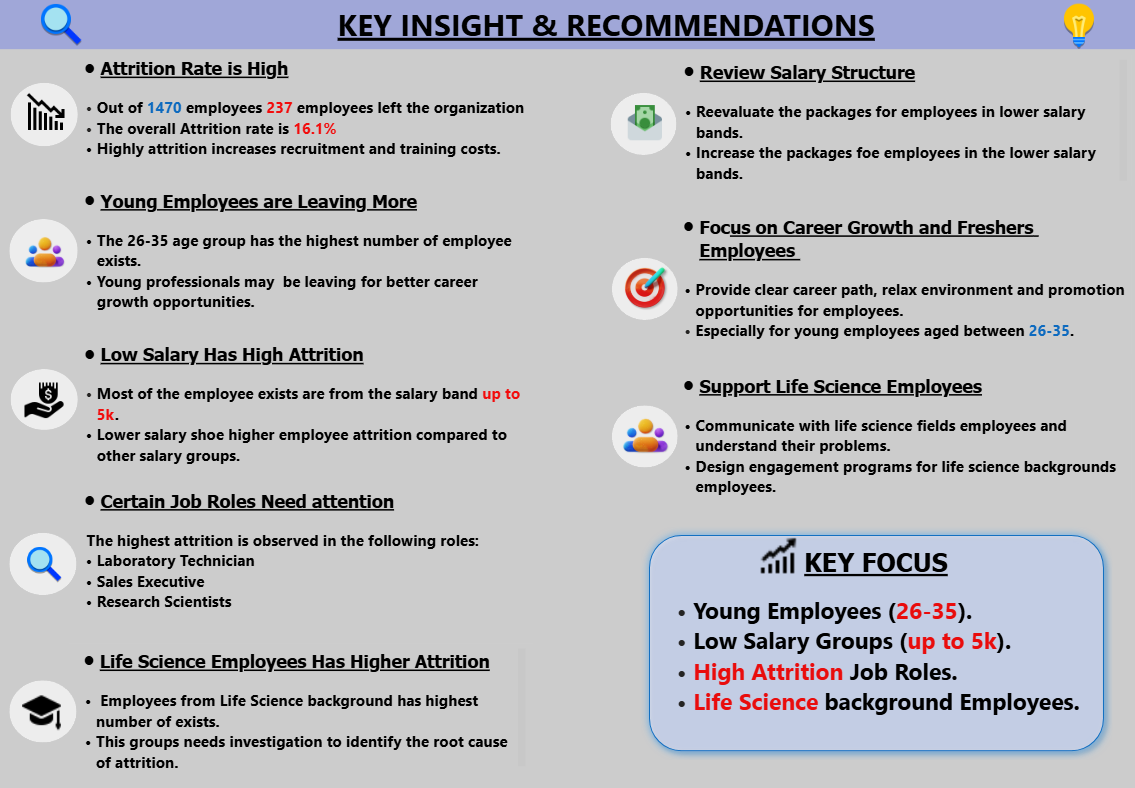

This screenshot's page, from the dashboard's own definition file:
{"tool":"powerbi","page":{"name":"Insight & Recom Page ","canvas":[1200,835],"ordinal":1},"visuals":[{"type":"textbox","box":[0,0,1280.4,52.7],"z":0},{"type":"textbox","box":[75,194.7,488.2,140.8],"z":1000},{"type":"textbox","box":[74.8,55.1,488.3,126],"z":2000},{"type":"textbox","box":[74.8,357,488.3,140.5],"z":3000},{"type":"shape","box":[13.1,87.9,70.9,66.9],"z":4000},{"type":"shape","box":[11.8,231,72.2,66.9],"z":5000},{"type":"shape","box":[13.1,389.8,70.9,64.3],"z":6000},{"type":"textbox","box":[74.8,510.6,488.3,168],"z":7000},{"type":"textbox","box":[73.5,678.6,487,136.5],"z":8000},{"type":"shape","box":[11.8,561.8,70.9,65.6],"z":9000},{"type":"shape","box":[11.8,716.7,70.9,65.6],"z":10000},{"type":"image","box":[19.7,728.5,52.5,40.7],"z":11000},{"type":"image","box":[22.3,572.3,51.2,43.3],"z":12000},{"type":"image","box":[23.6,400.3,49.9,44.6],"z":13000},{"type":"image","box":[23.6,241.5,51.2,48.6],"z":14000},{"type":"image","box":[27.6,98.4,44.6,39.4],"z":15000},{"type":"textbox","box":[704.9,59.1,488.3,137.8],"z":16000},{"type":"shape","box":[644.5,98.4,69.6,65.6],"z":17000},{"type":"textbox","box":[704.9,221.8,488.3,151],"z":18000},{"type":"shape","box":[645.8,271.7,69.6,65.6],"z":19000},{"type":"textbox","box":[704.9,389.8,488.3,140.5],"z":20000},{"type":"shape","box":[645.8,427.9,69.6,65.6],"z":21000},{"type":"shape","box":[676.7,555.3,496.8,245.6],"z":22000},{"type":"textbox","box":[691,572.5,466.8,228.4],"z":23000},{"type":"image","box":[641.9,107.6,77.4,45.9],"z":24000},{"type":"image","box":[1102.7,1.6,70.2,52.7],"z":25000},{"type":"image","box":[36.7,0,57.4,51.1],"z":26000},{"type":"image","box":[652.4,279.6,57.8,51.2],"z":27000},{"type":"image","box":[653.7,422.7,55.1,74.8],"z":28000},{"type":"image","box":[797.9,556.9,46.3,60.6],"z":29000}]}

Visuals, with their boxes in screenshot pixels (x1, y1, x2, y2), scaled from the page's 1200x835 canvas onto the 1135x788 screenshot:
textbox: [x1=0, y1=0, x2=1134, y2=50]
textbox: [x1=71, y1=184, x2=533, y2=317]
textbox: [x1=71, y1=52, x2=533, y2=171]
textbox: [x1=71, y1=337, x2=533, y2=469]
shape: [x1=12, y1=83, x2=79, y2=146]
shape: [x1=11, y1=218, x2=79, y2=281]
shape: [x1=12, y1=368, x2=79, y2=429]
textbox: [x1=71, y1=482, x2=533, y2=640]
textbox: [x1=70, y1=640, x2=530, y2=769]
shape: [x1=11, y1=530, x2=78, y2=592]
shape: [x1=11, y1=676, x2=78, y2=738]
image: [x1=19, y1=687, x2=68, y2=726]
image: [x1=21, y1=540, x2=70, y2=581]
image: [x1=22, y1=378, x2=70, y2=420]
image: [x1=22, y1=228, x2=71, y2=274]
image: [x1=26, y1=93, x2=68, y2=130]
textbox: [x1=667, y1=56, x2=1129, y2=186]
shape: [x1=610, y1=93, x2=675, y2=155]
textbox: [x1=667, y1=209, x2=1129, y2=352]
shape: [x1=611, y1=256, x2=677, y2=318]
textbox: [x1=667, y1=368, x2=1129, y2=500]
shape: [x1=611, y1=404, x2=677, y2=466]
shape: [x1=640, y1=524, x2=1110, y2=756]
textbox: [x1=654, y1=540, x2=1095, y2=756]
image: [x1=607, y1=102, x2=680, y2=145]
image: [x1=1043, y1=2, x2=1109, y2=51]
image: [x1=35, y1=0, x2=89, y2=48]
image: [x1=617, y1=264, x2=672, y2=312]
image: [x1=618, y1=399, x2=670, y2=469]
image: [x1=755, y1=526, x2=798, y2=583]
